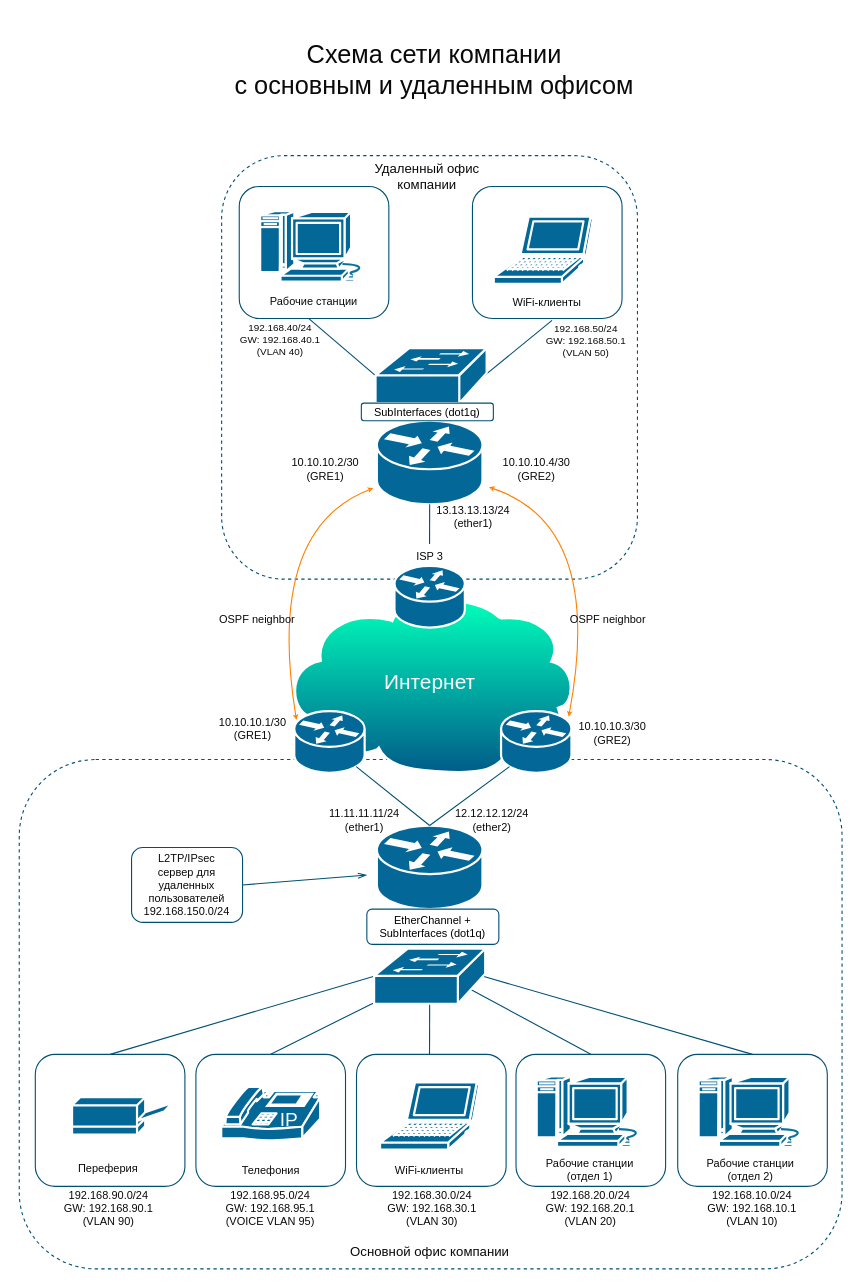
This 861x1288 diagram has some shape labels left out. Here are the shapes that lost their labels. From the top down, the box of each, then its label:
(293, 710, 365, 773): ISP 1
(499, 710, 572, 773): ISP 2
